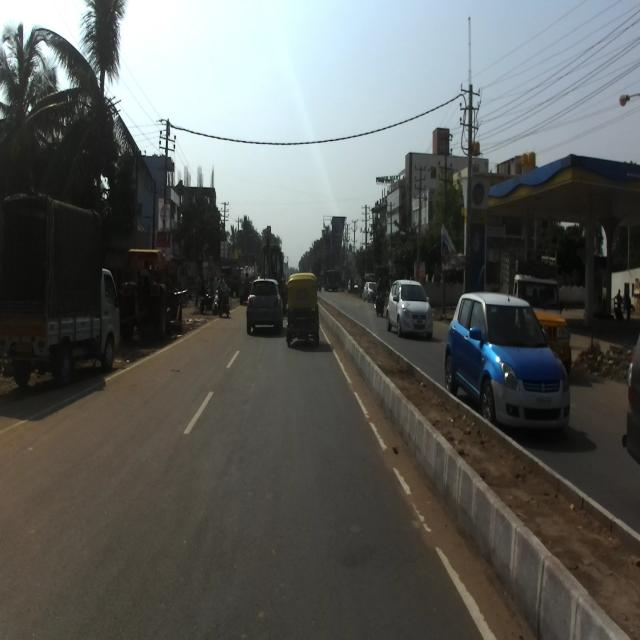autorickshaw: (283, 272, 321, 348)
car: (444, 290, 570, 434), (386, 278, 434, 339), (246, 275, 283, 334)
truck: (0, 194, 120, 387)
